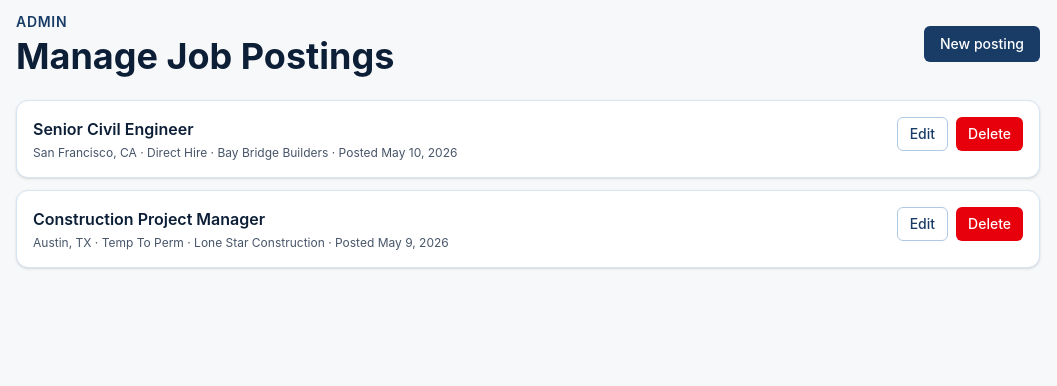
<AdminJobsPage /> — delete › shows a confirm step, then POSTs /api/employer/delete and removes the row
Check: the list named "job postings" is shown, box [16,100,1040,268]
What coordinates should you click on to do the following:
click the button "Delete" in the row of "May 10, 2026"
I would click on:
 (990, 134)
Its box is [956,117,1023,151].
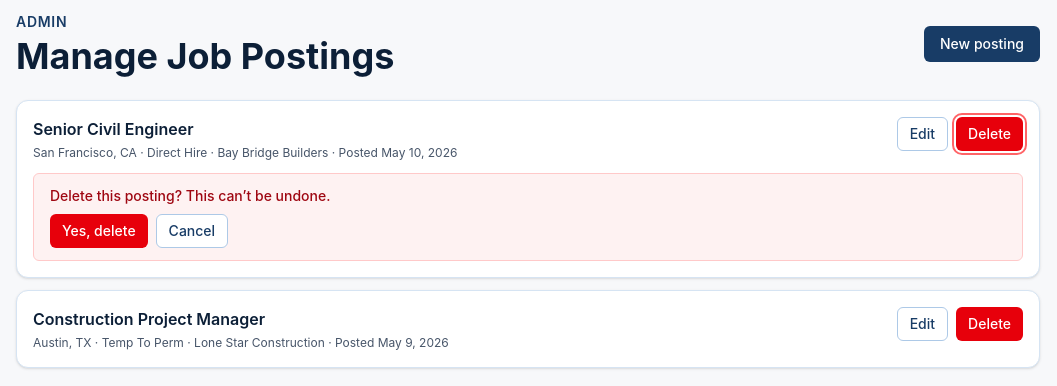
Check: the text "Delete this posting? This can’t be undone." is shown, box [50,187,330,204]
What coordinates should you click on to do the following:
click the button "Yes, delete"
I would click on:
 (99, 231)
Its box is [50,214,148,248].
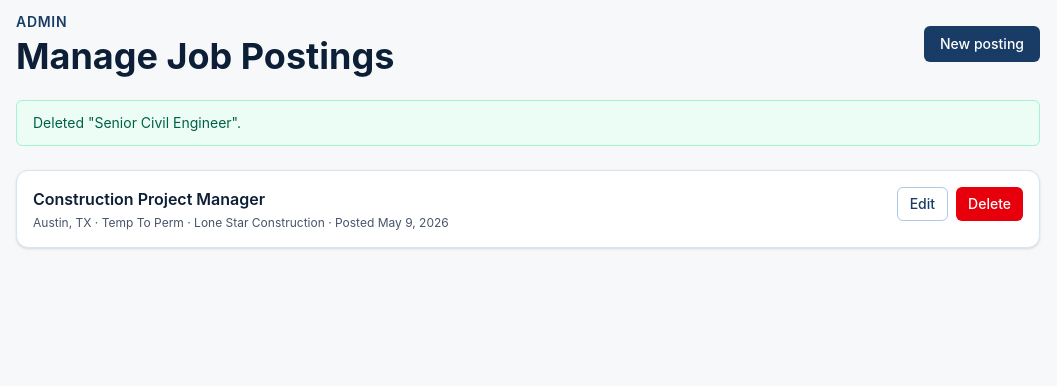
Check: the heading "Construction Project Manager" is shown, box [33,189,265,209]
Check: the number of list items is 1, box [16,170,1040,248]
Check: the text "Deleted \"Senior Civil Engineer\"." is shown, box [16,100,1040,146]
